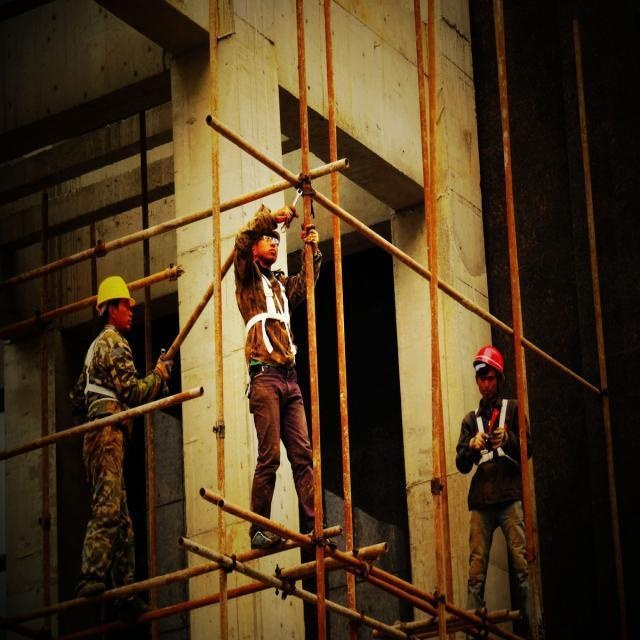Arnes_seguridad: (243, 268, 293, 347), (471, 396, 518, 472), (81, 325, 124, 405)
